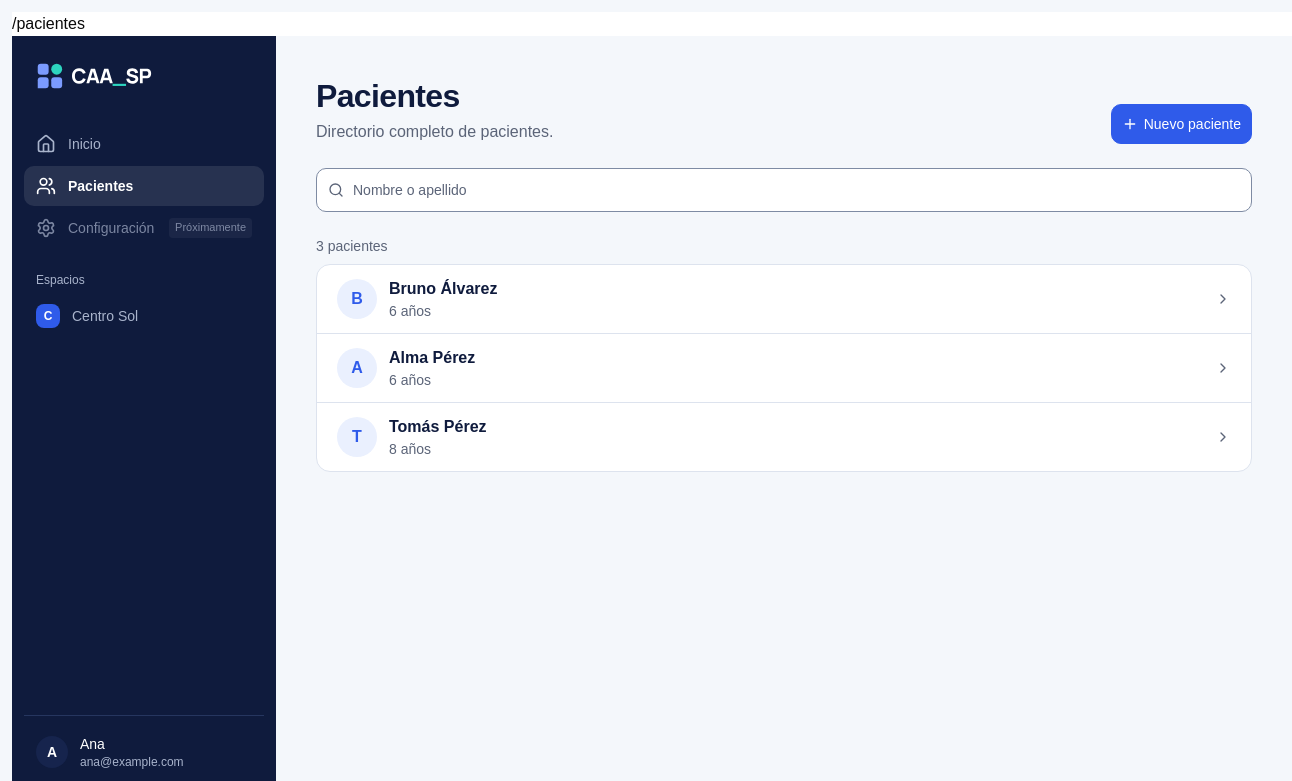
Test case: list states › recovers from no matches
This screenshot has width=1292, height=781.
Type "zzz" into the search field. click: [784, 190]
box: [316,168,1252,212]
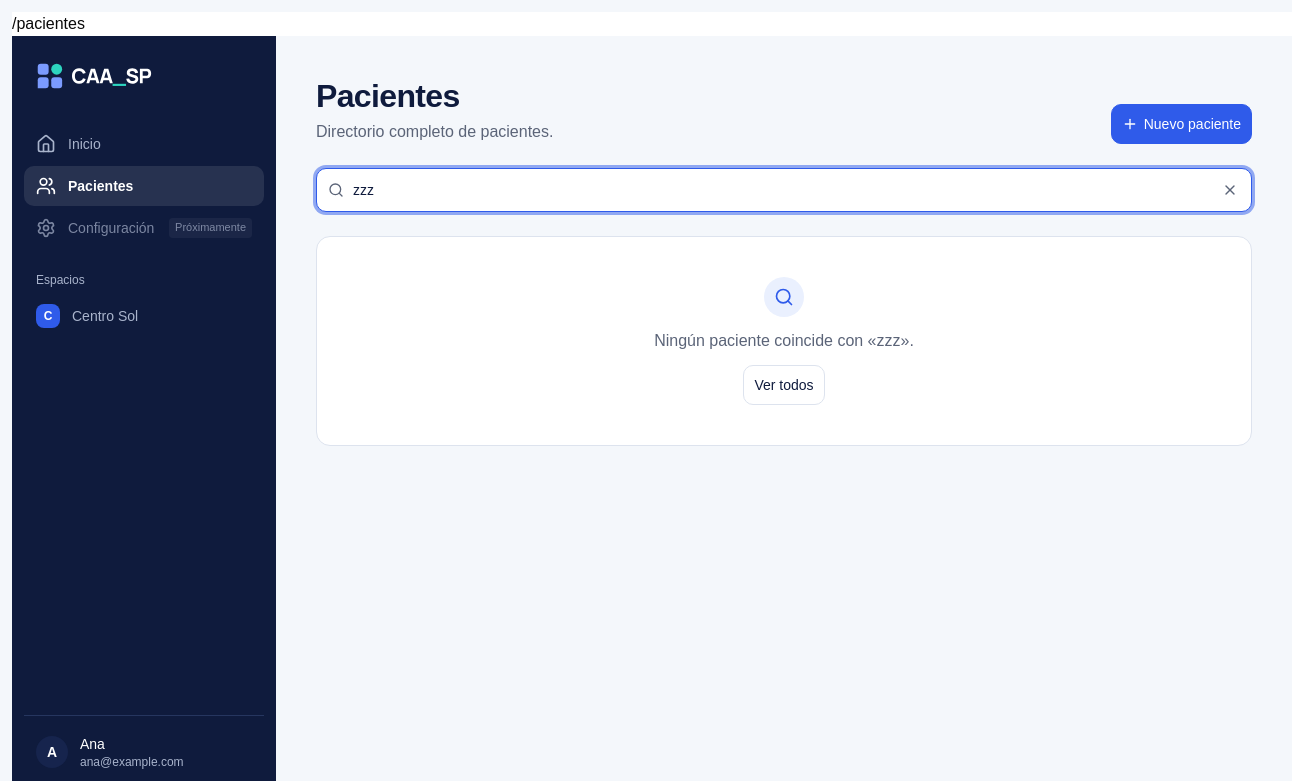
Click the button "Ver todos". click: [784, 385]
box: [743,365,825,405]
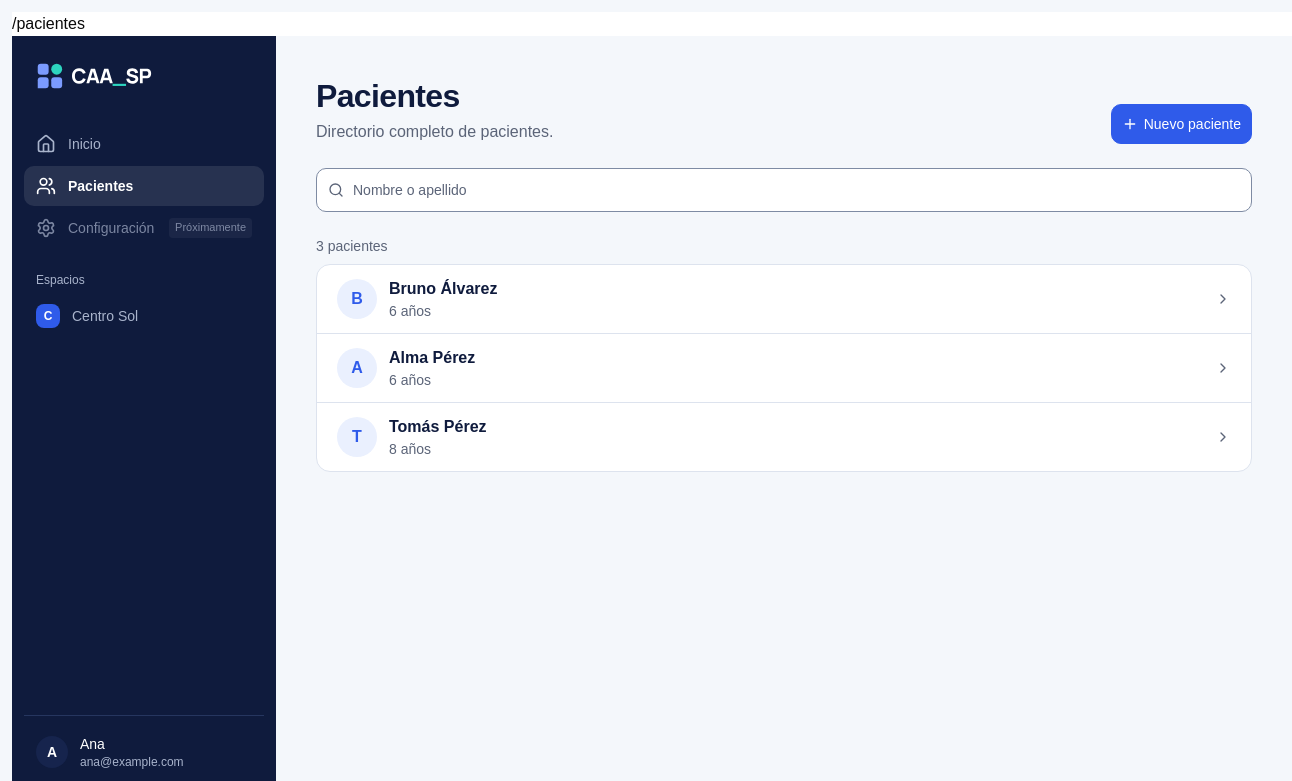
Expected: the element named "Listado de pacientes" is shown, [316,236,1252,472]
